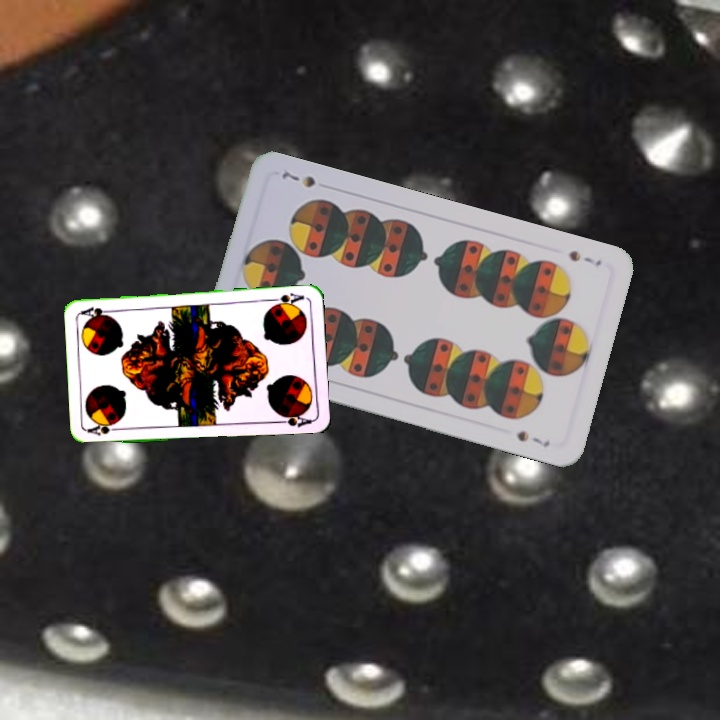S7: (564, 246, 604, 269)
SA: (267, 289, 307, 309), (85, 419, 125, 438)
